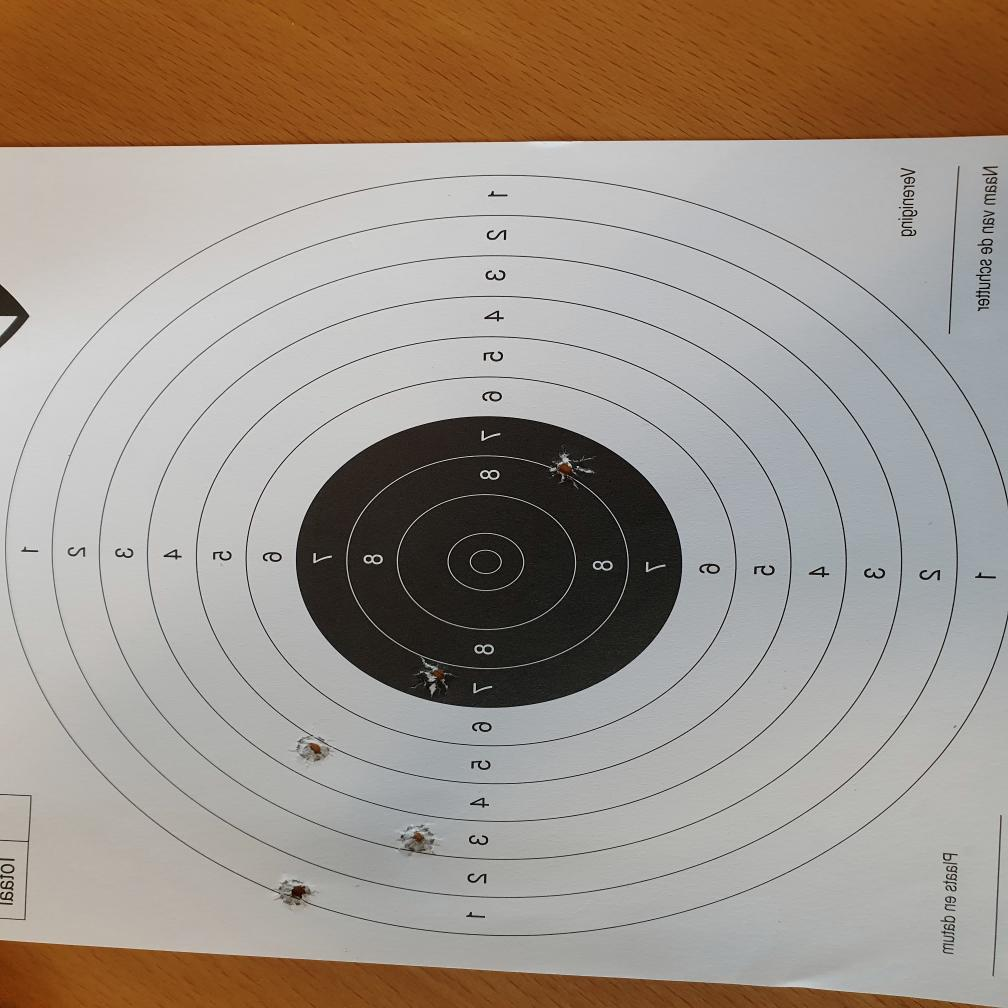1: (275, 873, 318, 910)
3: (393, 820, 440, 862)
5: (293, 734, 332, 767)
7: (406, 657, 459, 698)
8: (545, 447, 598, 490)
Target: (6, 175, 1008, 937)
black_contour: (297, 414, 682, 710)
